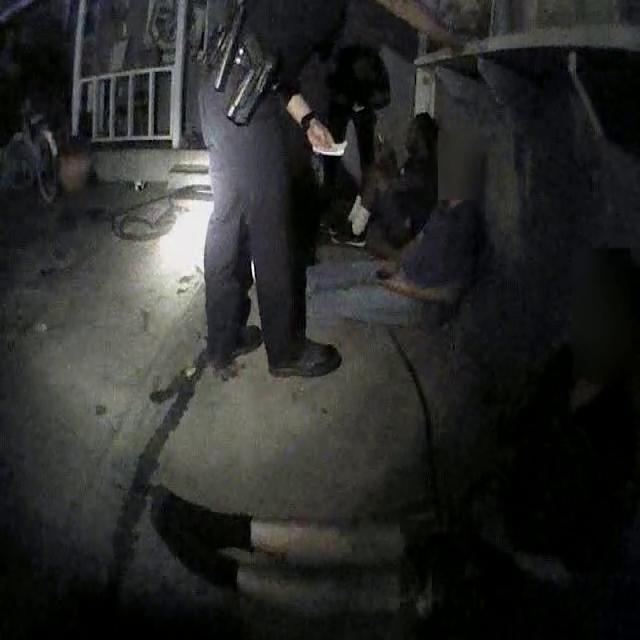gun: (218, 25, 288, 139)
